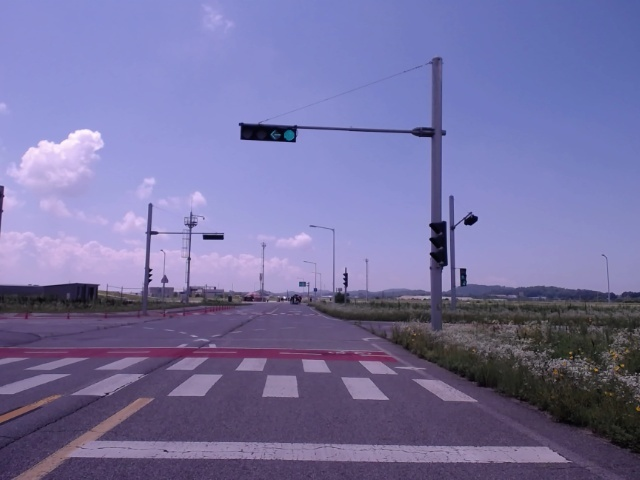all_green_4: (237, 120, 300, 145)
